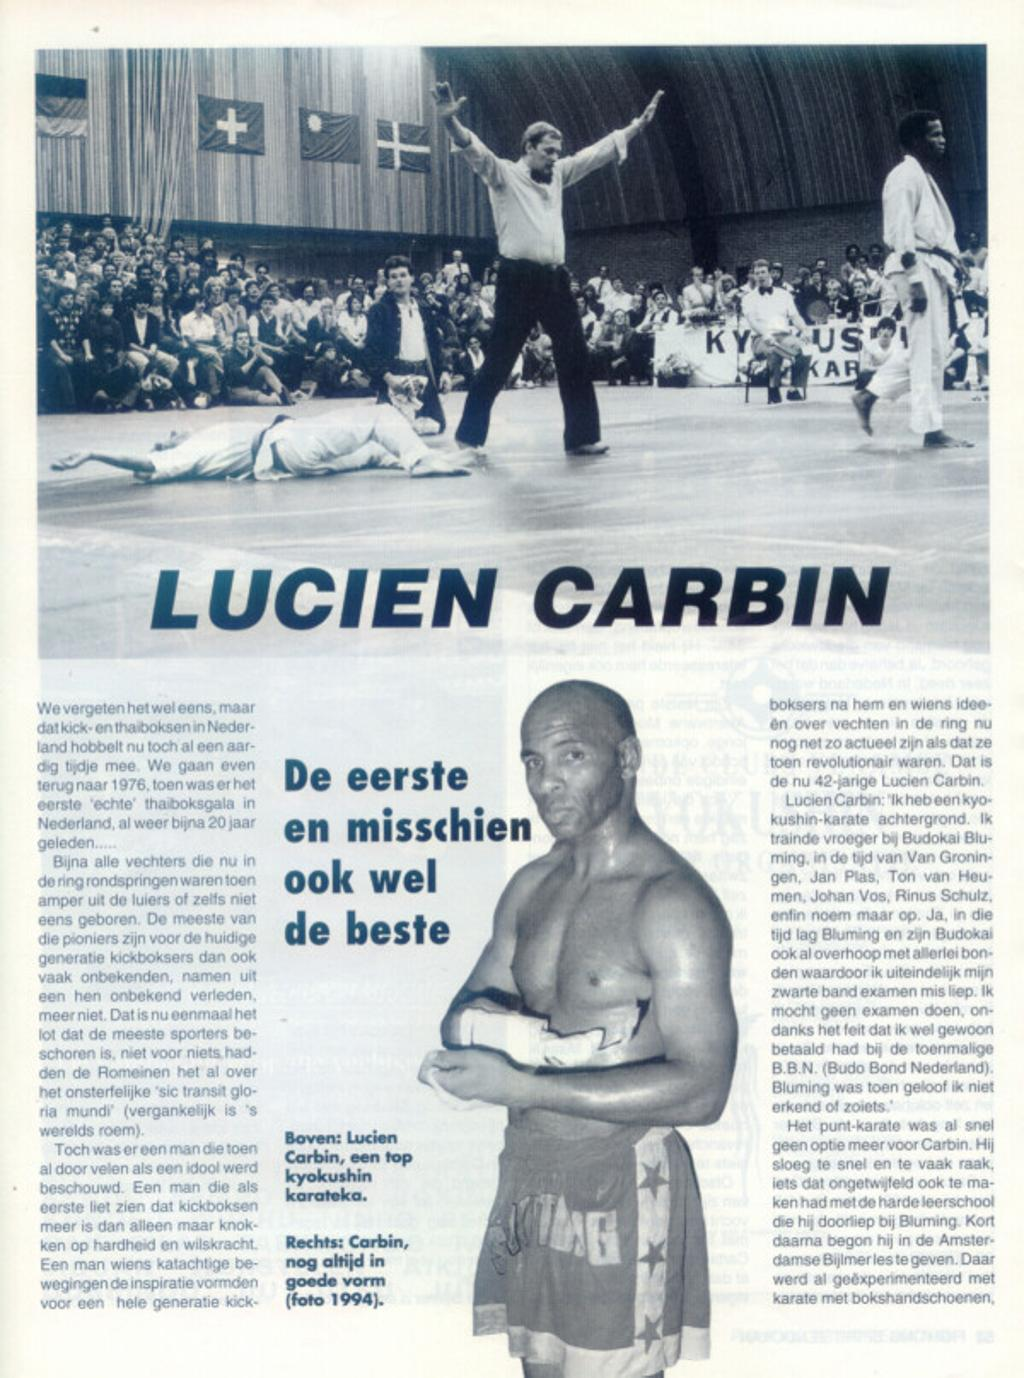face: (519, 697, 622, 840), (532, 135, 561, 176), (920, 119, 945, 157), (388, 268, 409, 293)
